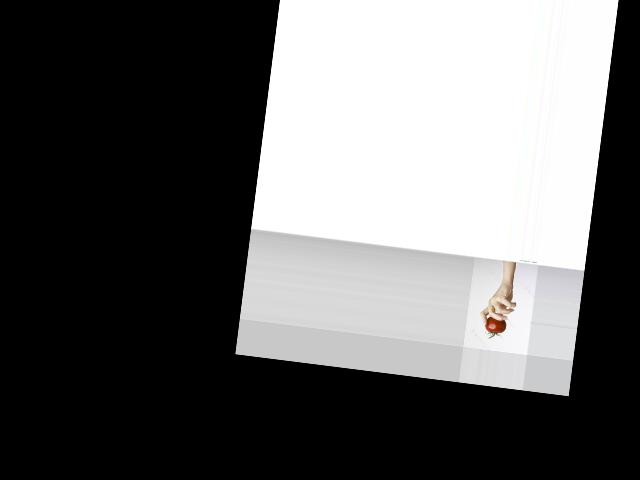tomato: (484, 316, 507, 340)
